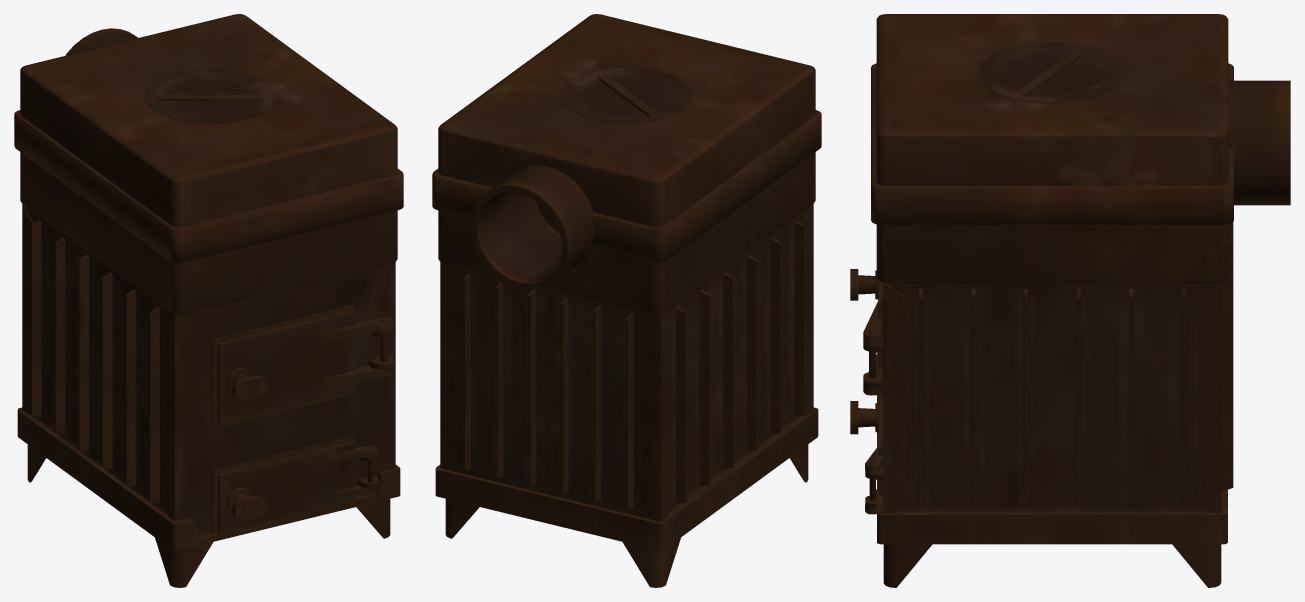
Rendered from cast-iron-furnace.gltf.
The picture shows the model from 3 angles, left to right: view 1: azimuth 30°, elevation 25°; view 2: azimuth 150°, elevation 25°; view 3: azimuth 270°, elevation 25°; orthographic projection. The views are drawn at different scales.
Parts seen in each view (by area): view 1: Sketchfab_model; view 2: Sketchfab_model; view 3: Sketchfab_model.
Boxes of the visible parts, x1,y1,x2,y2 form: Sketchfab_model: (14, 14, 403, 587); Sketchfab_model: (432, 14, 821, 587); Sketchfab_model: (850, 14, 1290, 587).
Size of the model in its own units: 0.8433 by 1.4 by 1.22.
1 material, 1 textured.
